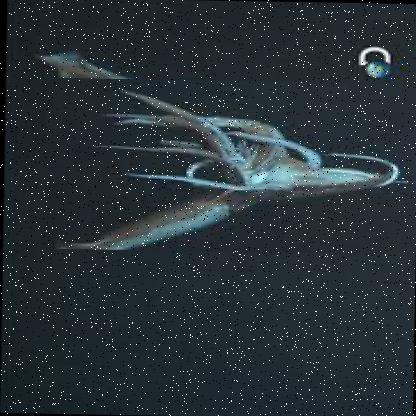colossal_squid: (42, 76, 415, 255)
